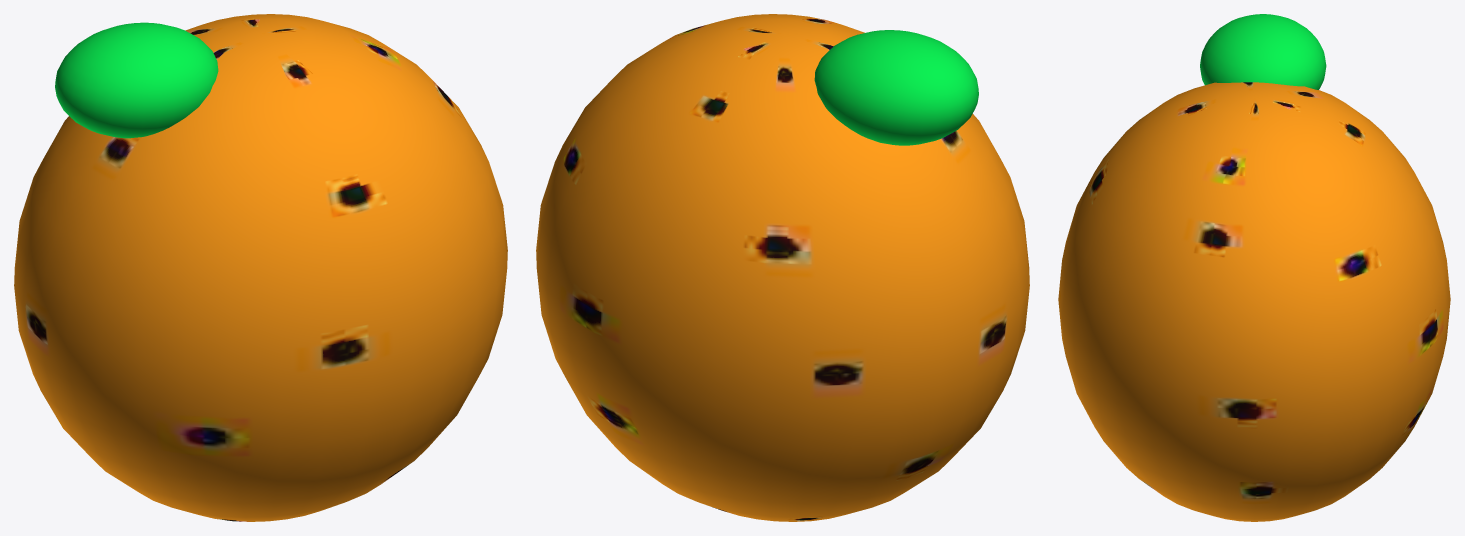
The model's file is Orange.FBX.
The picture shows the model from 3 angles, left to right: view 1: azimuth 30°, elevation 25°; view 2: azimuth 150°, elevation 25°; view 3: azimuth 270°, elevation 25°; orthographic projection. The views are drawn at different scales.
Parts seen in each view (by area): view 1: Sphere201, Sphere200; view 2: Sphere201, Sphere200; view 3: Sphere201, Sphere200.
Boxes of the visible parts, x1,y1,x2,y2 form: Sphere201: [14, 14, 507, 521]; Sphere200: [55, 22, 218, 138]; Sphere201: [536, 14, 1029, 521]; Sphere200: [814, 30, 978, 145]; Sphere201: [1058, 82, 1450, 521]; Sphere200: [1200, 14, 1326, 89].
Bounding box in the file's own units: 6.39 × 5.71 × 6.86.
2 materials, 2 textured.
